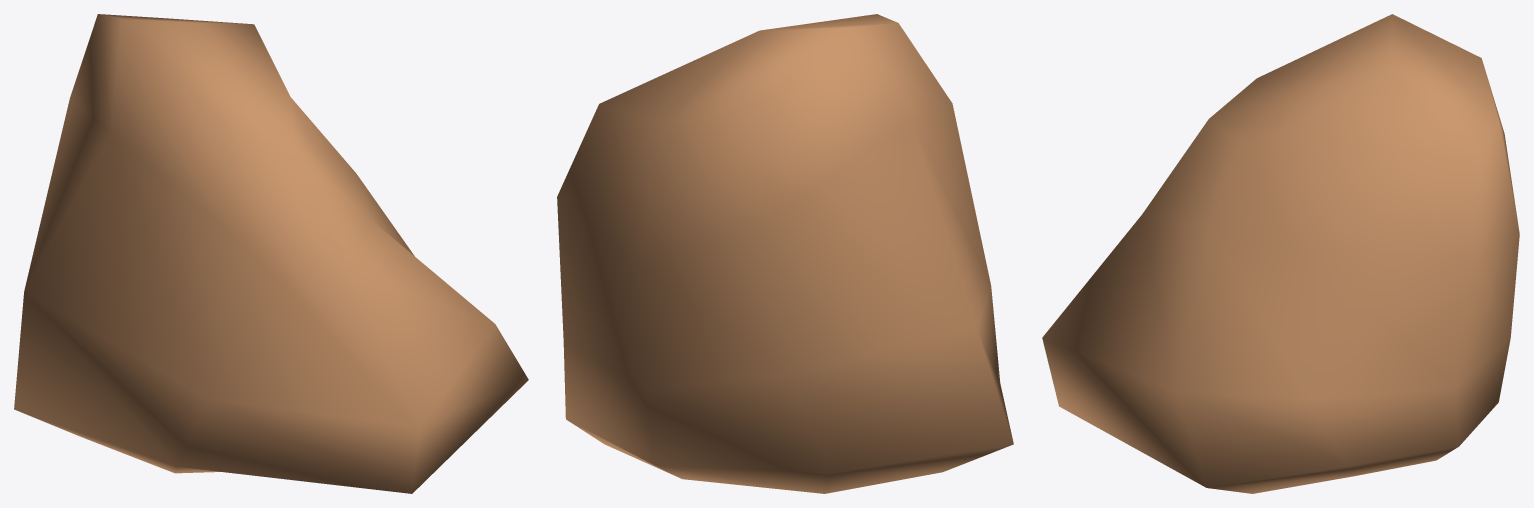
Rendered from Rock_1.fbx.
The picture shows the model from 3 angles, left to right: view 1: azimuth 30°, elevation 25°; view 2: azimuth 150°, elevation 25°; view 3: azimuth 270°, elevation 25°; orthographic projection. The views are drawn at different scales.
Visible parts, largest first — view 1: rock_1; view 2: rock_1; view 3: rock_1.
Part boxes in pixels (bbox=[...]): rock_1: bbox=[14, 14, 528, 493]; rock_1: bbox=[557, 14, 1013, 493]; rock_1: bbox=[1042, 14, 1519, 493].
Size of the model in its own units: 857 by 763 by 883.
